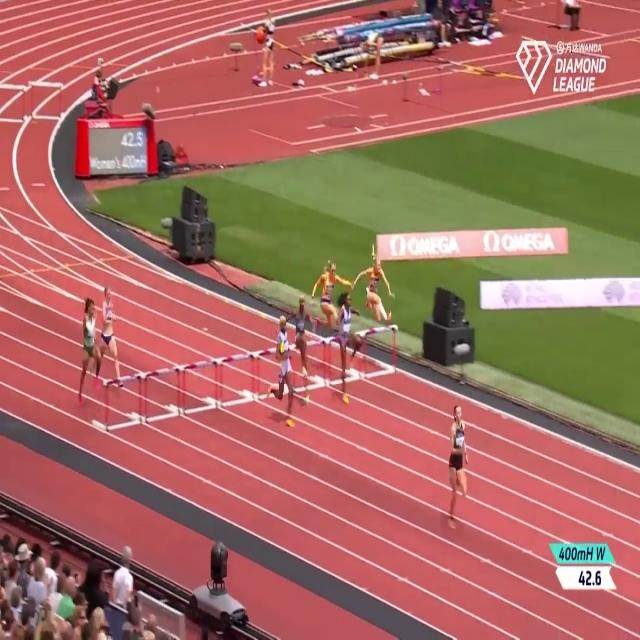athlete: (440, 399, 474, 540), (334, 281, 364, 411), (269, 306, 299, 431), (355, 249, 397, 332), (287, 290, 313, 413), (308, 257, 350, 329), (81, 283, 105, 408), (100, 274, 120, 390)
hurdle: (104, 366, 145, 436), (219, 348, 258, 414), (182, 352, 218, 422), (142, 362, 182, 421), (328, 330, 363, 392), (364, 319, 398, 381), (255, 346, 289, 403), (29, 79, 63, 129), (300, 337, 328, 396), (0, 79, 28, 135)
